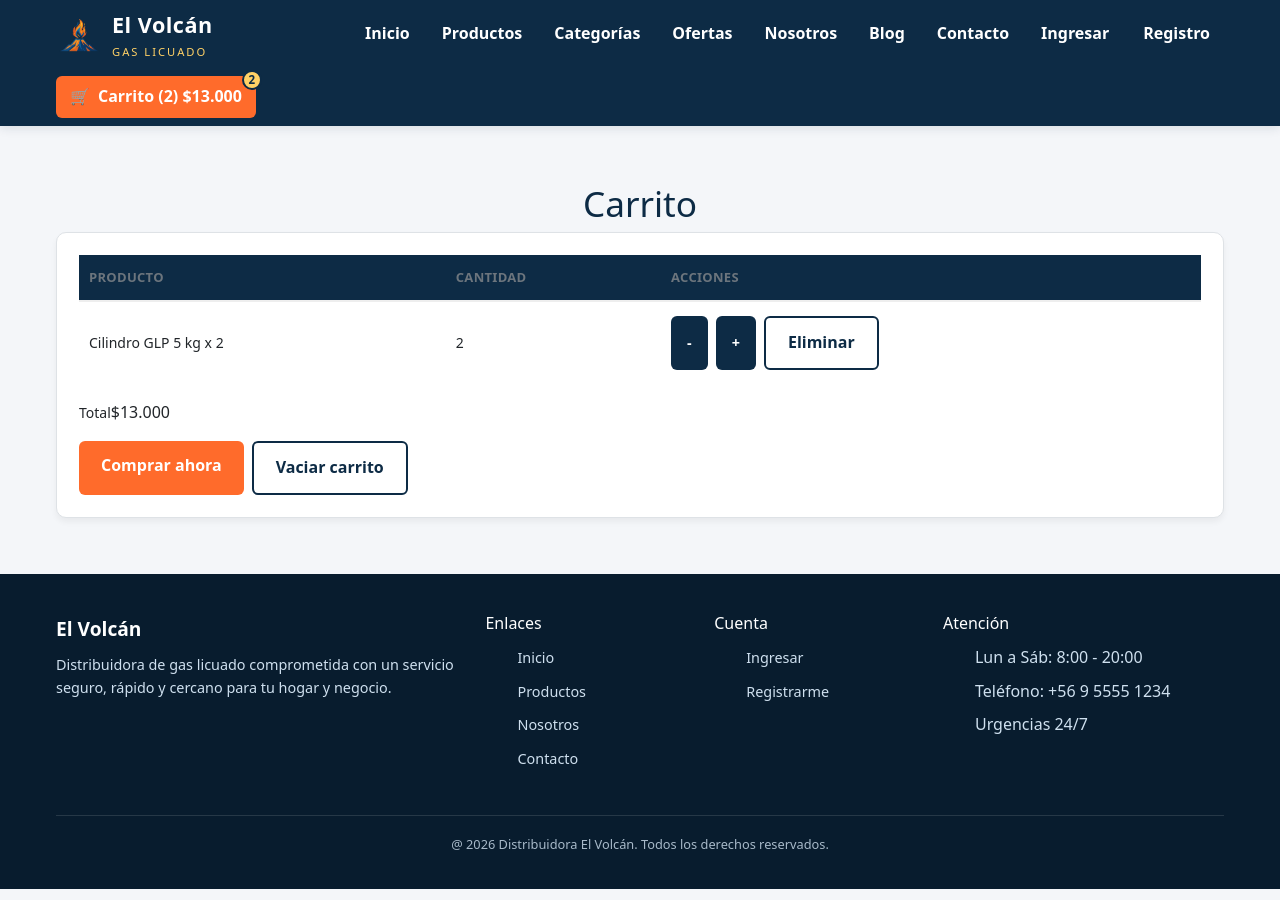
Scenario: Rutas de la aplicacion (App) › deberia vaciar el carrito con el boton Vaciar carrito
Click the button "Vaciar carrito": (330,468) [252,441,408,495]
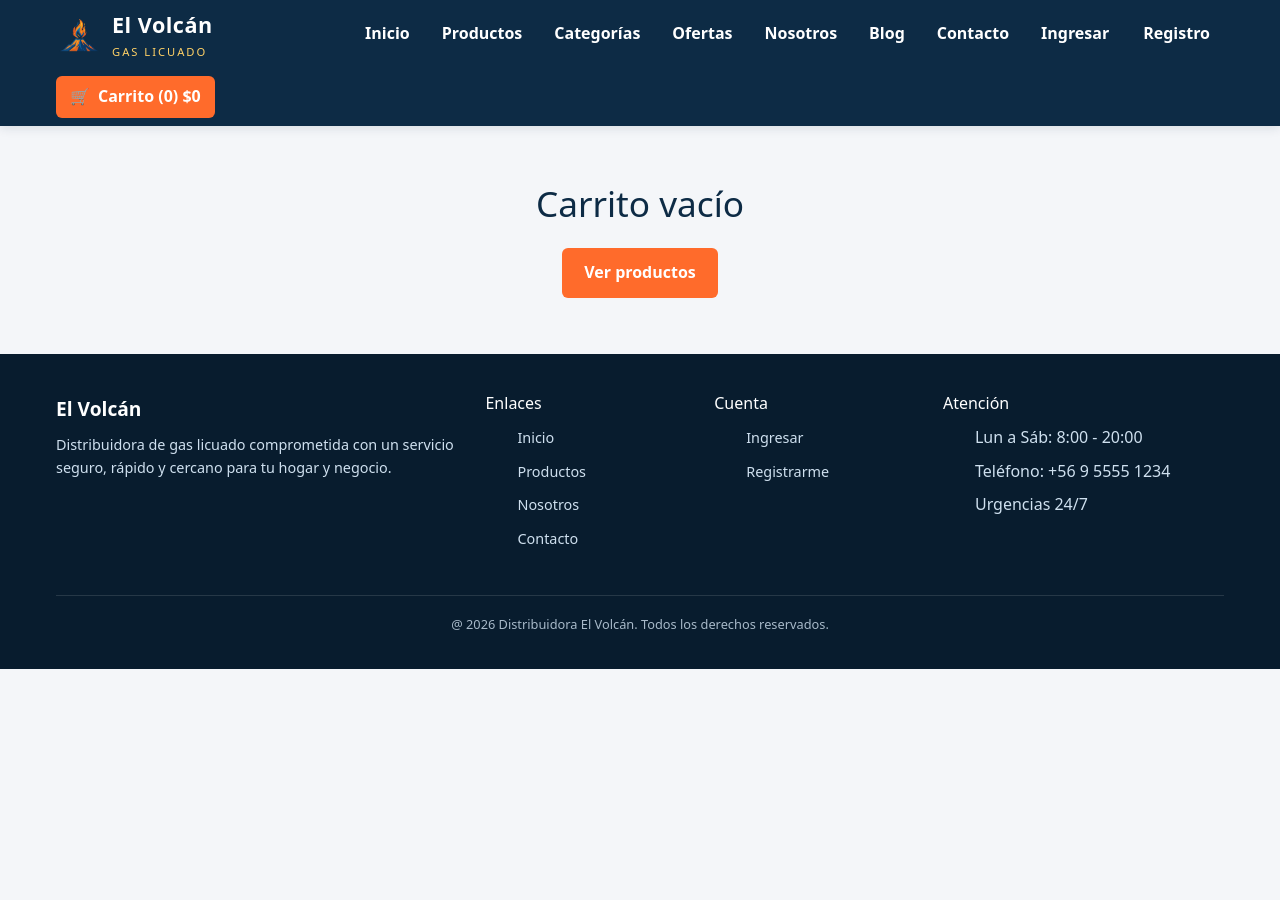
Now the heading "Carrito vacío" is shown, box [536,179,744,227]
